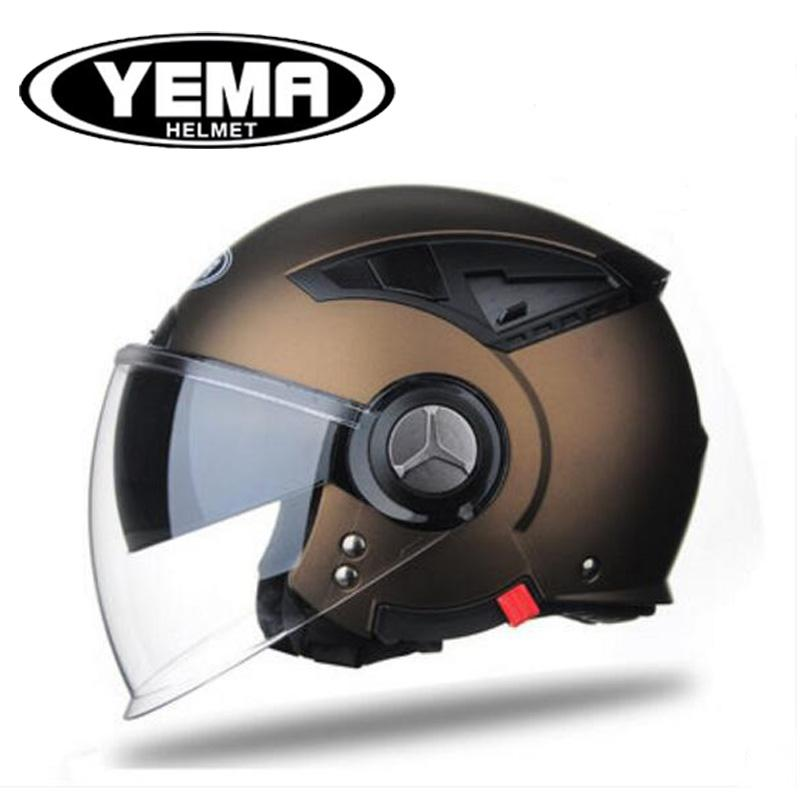with_helmet: (74, 178, 736, 722)
